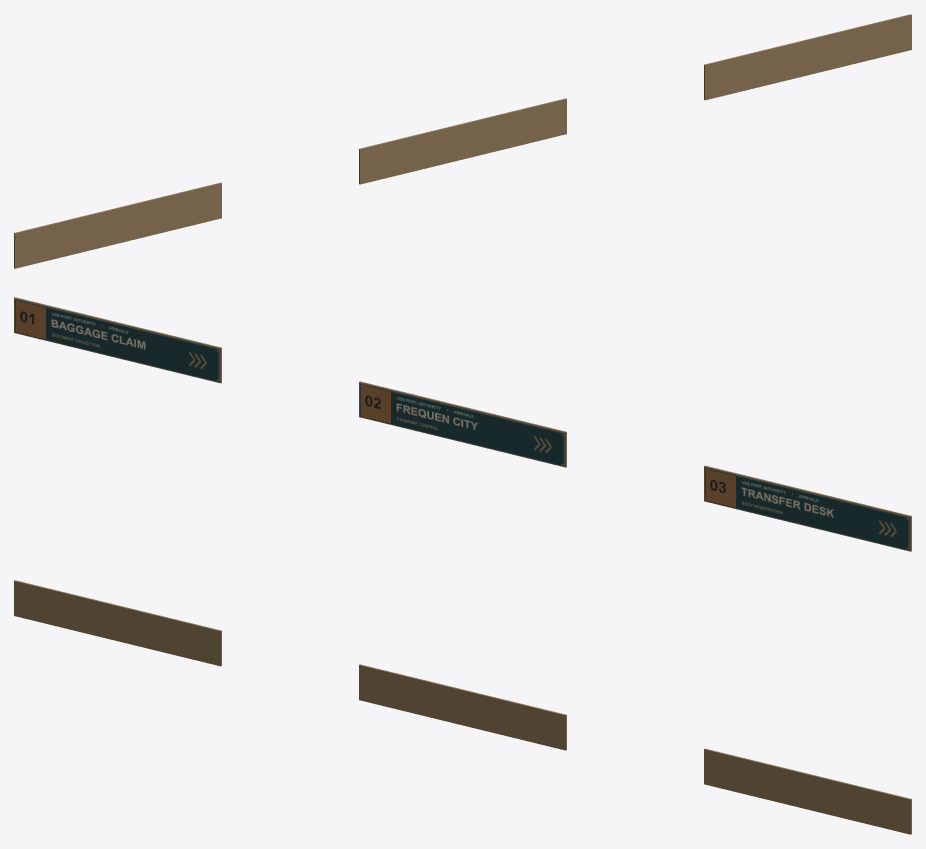
The model's file is port-counter-signs.glb.
The picture shows the model from 3 angles, top to bottom: view 1: azimuth 30°, elevation 25°; view 2: azimuth 150°, elevation 25°; view 3: azimuth 330°, elevation 25°; orthographic projection.
Parts seen in each view (by area): view 1: welcome folded backing, clearance folded backing, claim folded backing; view 2: welcome wayfinding, claim wayfinding, clearance wayfinding, claim folded backing, welcome folded backing, clearance folded backing, welcome enamel face, clearance enamel face, claim enamel face; view 3: welcome folded backing, clearance folded backing, claim folded backing.
Boxes of the visible parts, bbox=[...] form: welcome folded backing: bbox=[359, 98, 566, 184]; clearance folded backing: bbox=[14, 182, 221, 268]; claim folded backing: bbox=[704, 14, 911, 100]; welcome wayfinding: bbox=[361, 385, 562, 464]; claim wayfinding: bbox=[16, 300, 217, 381]; clearance wayfinding: bbox=[706, 469, 907, 549]; claim folded backing: bbox=[14, 297, 221, 383]; welcome folded backing: bbox=[359, 381, 566, 467]; clearance folded backing: bbox=[704, 465, 911, 551]; welcome enamel face: bbox=[360, 383, 564, 466]; clearance enamel face: bbox=[705, 467, 909, 550]; claim enamel face: bbox=[15, 299, 219, 382]; welcome folded backing: bbox=[359, 664, 566, 750]; clearance folded backing: bbox=[14, 580, 221, 666]; claim folded backing: bbox=[704, 748, 911, 834].
Bounding box in the file's own units: 18.2 × 0.68 × 0.056.
Materials: 5 (3 with a texture image).
